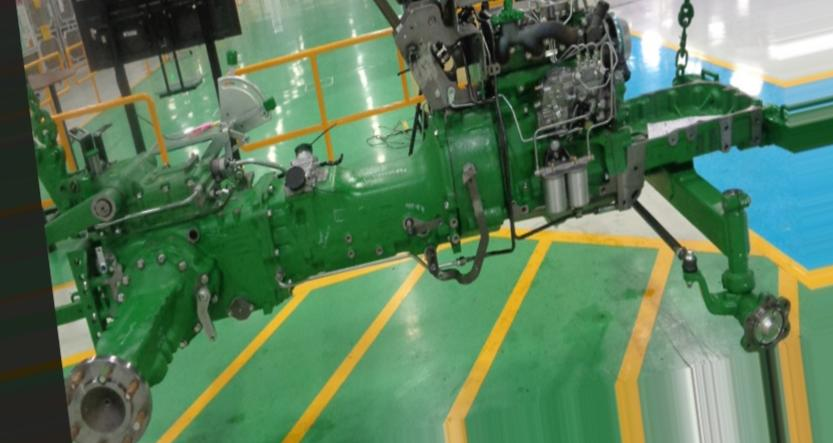engine: (29, 0, 833, 443)
